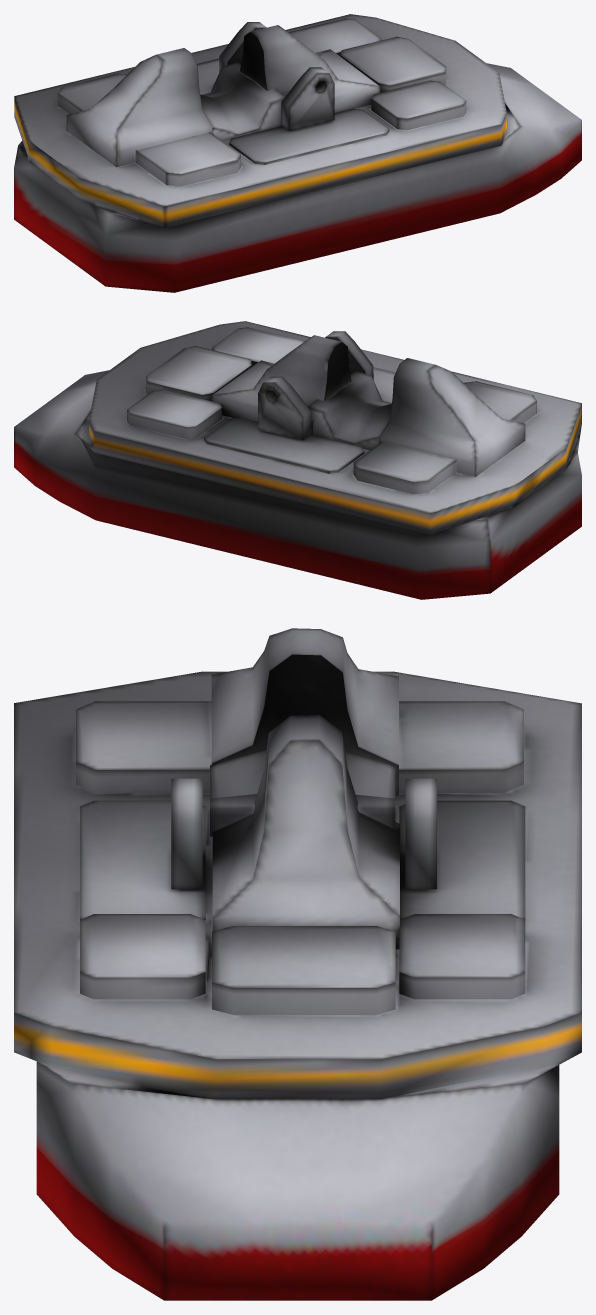
File: r_foot.dae
The picture shows the model from 3 angles, top to bottom: view 1: azimuth 30°, elevation 25°; view 2: azimuth 150°, elevation 25°; view 3: azimuth 270°, elevation 25°; orthographic projection. The views are drawn at different scales.
Visible parts, largest first — view 1: r_foot; view 2: r_foot; view 3: r_foot.
Part boxes in pixels (x1,y1,x2,y2): r_foot: (14, 14, 581, 292); r_foot: (14, 321, 581, 599); r_foot: (14, 628, 581, 1300).
Bounding box in the file's own units: 0.2629 × 0.1398 × 0.0866.
